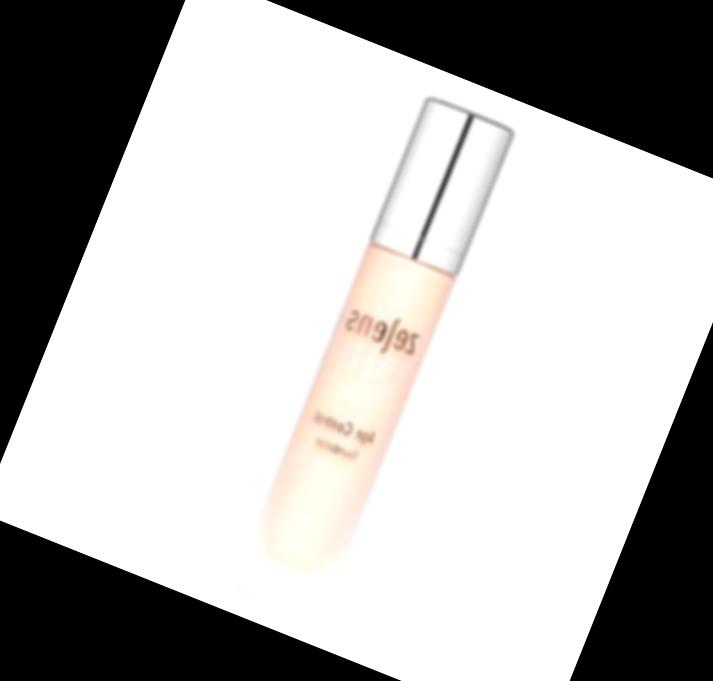cosmetic: (225, 91, 517, 626)
